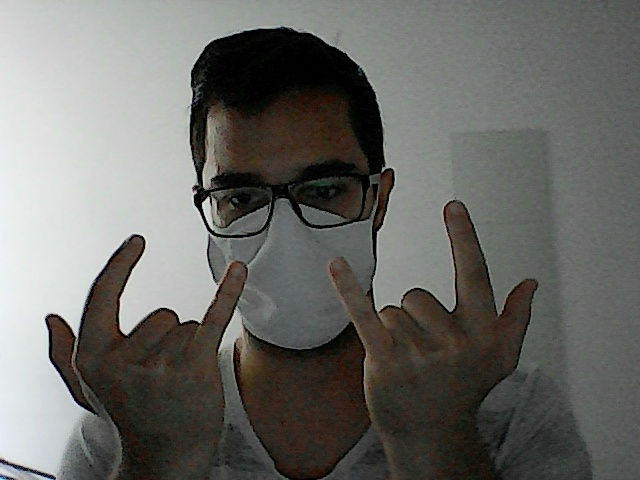shoot: (324, 196, 544, 428), (36, 226, 252, 454)
